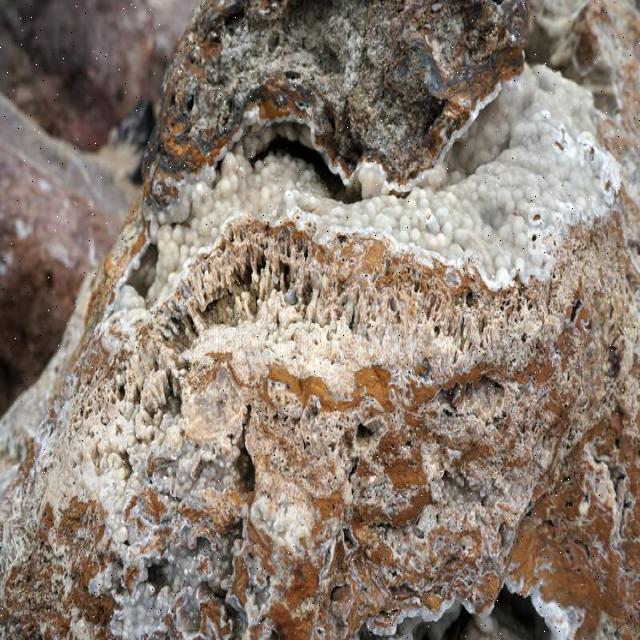Sedimentary: (1, 1, 639, 635)
